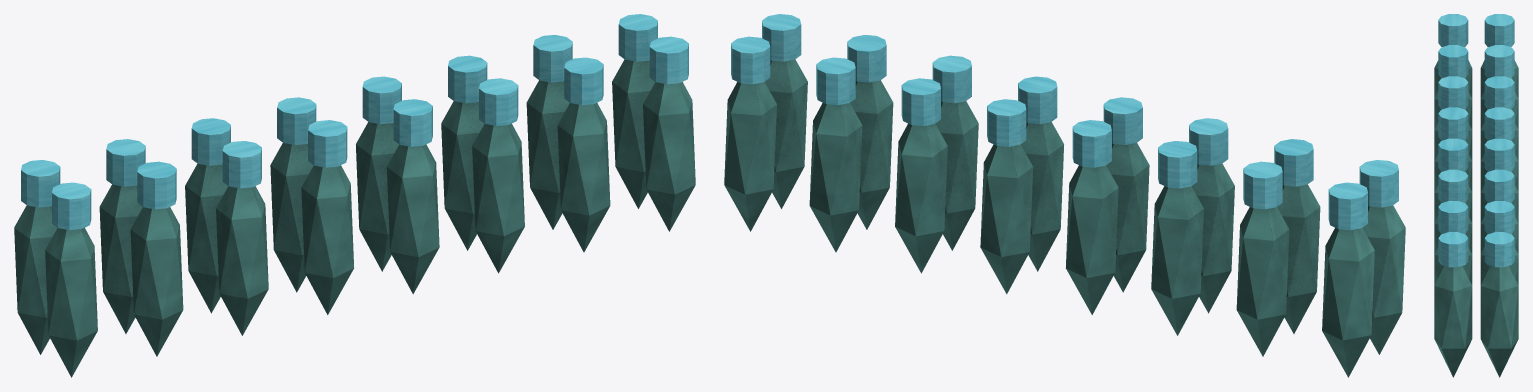
The model's file is base_crop_shine_ripe.glb.
3 views of the same model, side by side, from view 1: azimuth 30°, elevation 25°; view 2: azimuth 150°, elevation 25°; view 3: azimuth 270°, elevation 25° (orthographic). The views are drawn at different scales.
Parts seen in each view (by area): view 1: base_crop_shine_ripe; view 2: base_crop_shine_ripe; view 3: base_crop_shine_ripe.
Boxes of the visible parts, x1,y1,x2,y2 form: base_crop_shine_ripe: [14, 14, 695, 377]; base_crop_shine_ripe: [724, 14, 1405, 377]; base_crop_shine_ripe: [1434, 14, 1518, 377].
Size of the model in its own units: 4.81 by 1.33 by 0.7266.
2 materials, 2 textured.
